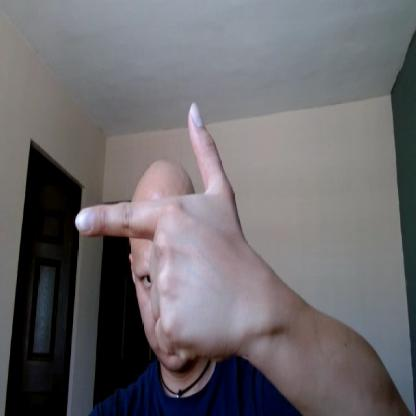G: (74, 101, 242, 358)
